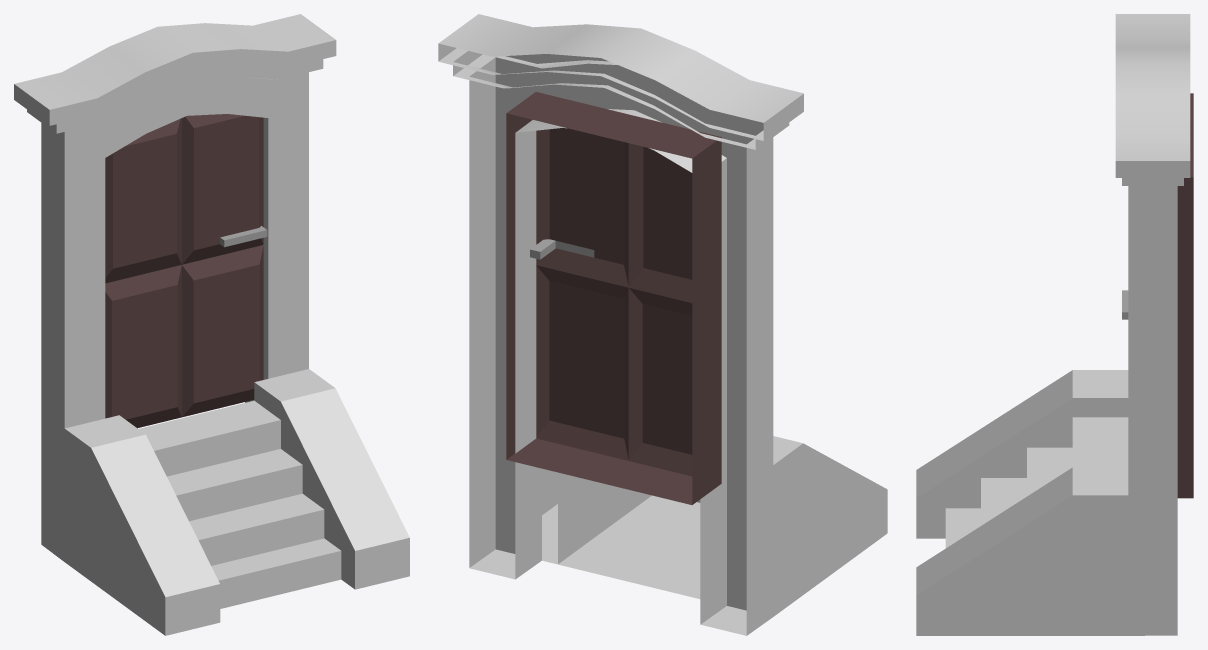
File: Door1.fbx
3 renders of one model, left to right at view 1: azimuth 30°, elevation 25°; view 2: azimuth 150°, elevation 25°; view 3: azimuth 270°, elevation 25°, orthographic. The views are drawn at different scales.
Parts seen in each view (by area): view 1: doorFrame5; view 2: doorFrame5; view 3: doorFrame5.
Part boxes in pixels (bbox=[...]): doorFrame5: bbox=[14, 14, 409, 635]; doorFrame5: bbox=[438, 14, 887, 635]; doorFrame5: bbox=[916, 14, 1193, 635].
Size of the model in its own units: 5.24 by 8.45 by 4.17.
